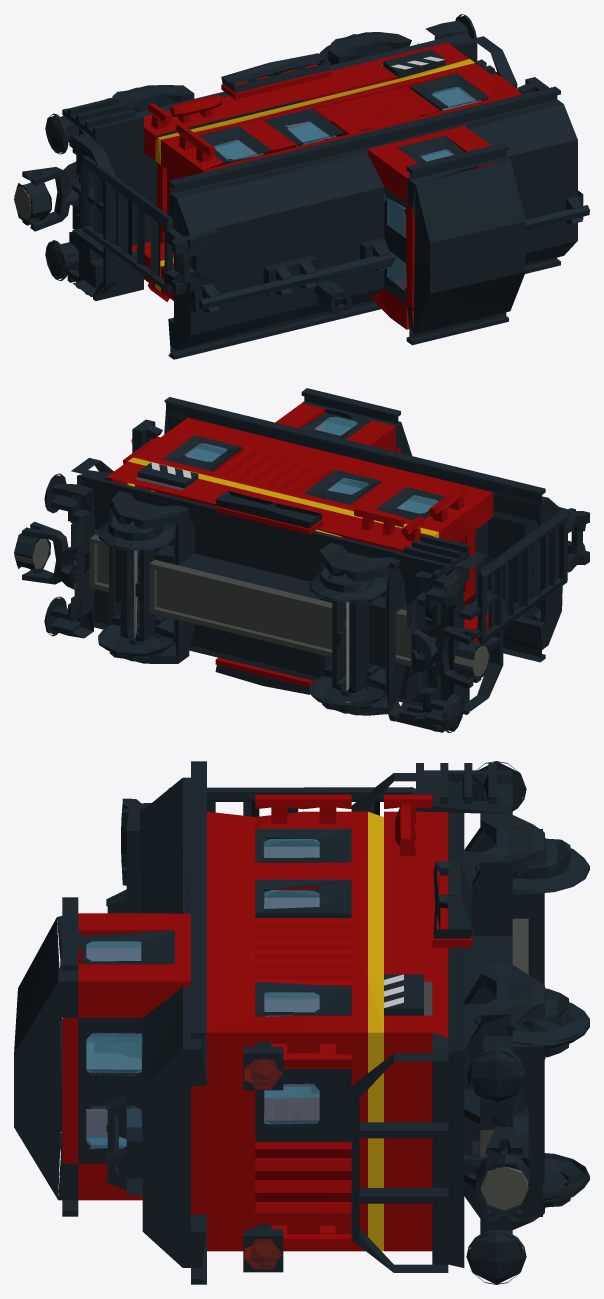
Rendered from caboose.glb.
The picture shows the model from 3 angles, top to bottom: view 1: azimuth 30°, elevation 25°; view 2: azimuth 150°, elevation 25°; view 3: azimuth 270°, elevation 25°; orthographic projection. The views are drawn at different scales.
Size of the model in its own units: 156 by 59.61 by 115.
